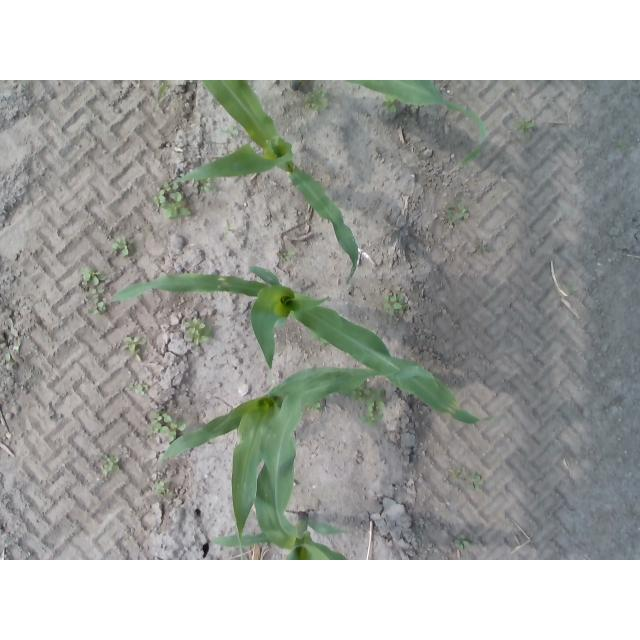Maize: (108, 265, 480, 423), (160, 369, 441, 548), (156, 82, 358, 286), (289, 80, 490, 172), (208, 512, 348, 561)
Weeds: (439, 194, 470, 223), (183, 317, 213, 345), (382, 295, 406, 316), (163, 202, 192, 219), (359, 402, 381, 422), (118, 337, 146, 352), (310, 88, 330, 108), (160, 420, 180, 440), (112, 237, 132, 256), (83, 268, 106, 284), (151, 413, 170, 430), (514, 119, 535, 134), (103, 456, 121, 473), (372, 391, 388, 410), (167, 184, 182, 202), (454, 535, 471, 549), (355, 388, 371, 401), (472, 473, 485, 489), (155, 188, 166, 205), (382, 98, 396, 111), (94, 302, 107, 315), (92, 289, 105, 302), (135, 384, 149, 395), (156, 482, 166, 489)
